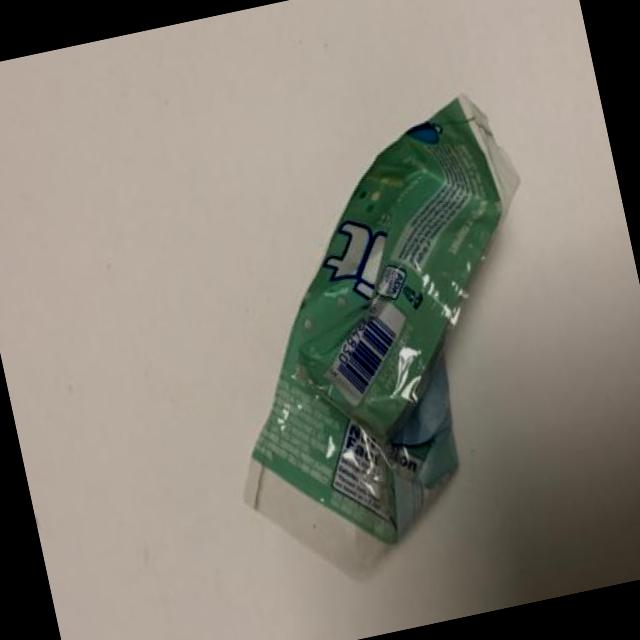Trash: (172, 81, 597, 574)
